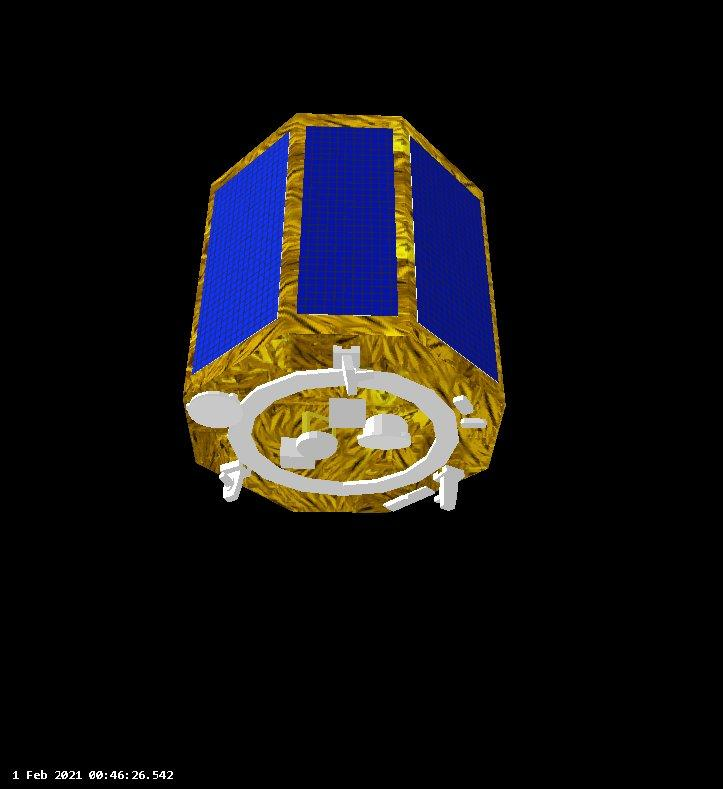antenna: (186, 389, 245, 429), (297, 430, 339, 461), (358, 428, 411, 450)
body: (181, 108, 511, 516)
solar: (189, 129, 292, 374), (407, 133, 501, 383), (294, 124, 399, 318)
